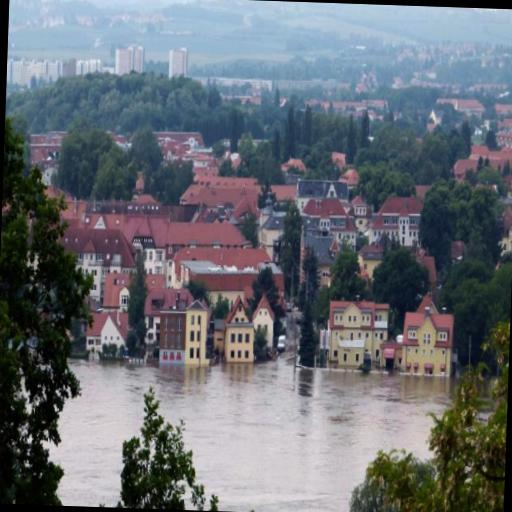flood: (50, 358, 456, 512)
house: (173, 240, 286, 285), (398, 298, 458, 372), (154, 292, 212, 364), (327, 300, 387, 369), (72, 226, 130, 278), (220, 298, 255, 362), (380, 196, 422, 242), (90, 312, 130, 359), (304, 194, 348, 232), (132, 234, 166, 272), (254, 290, 276, 336), (352, 195, 370, 217), (502, 216, 512, 248)
